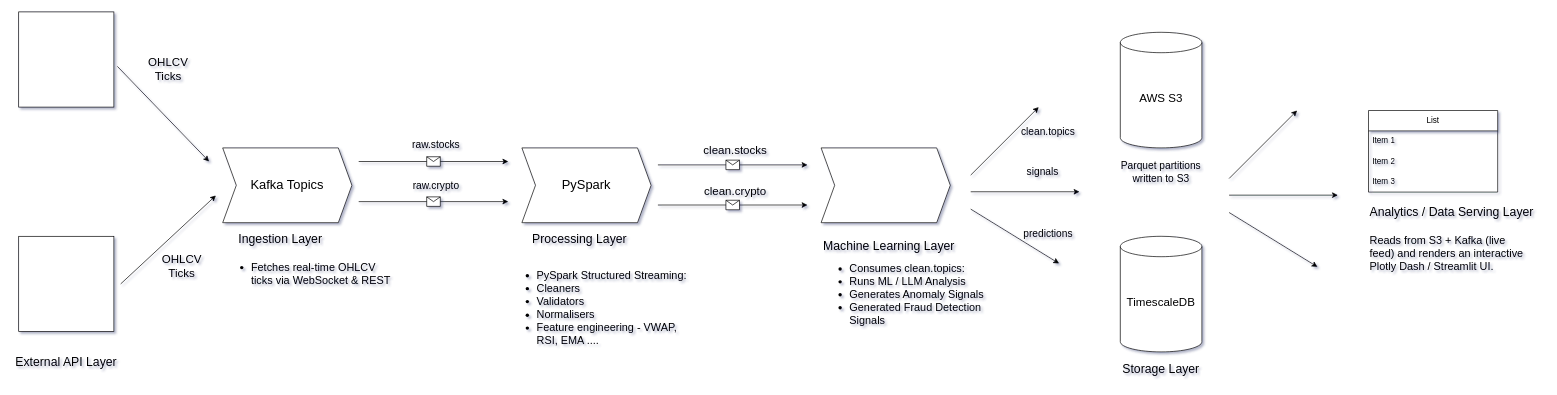
Image size: 1557x395. Some labels were removed from this diagram. Here are the shapes that lost their labels. From the top down, the centre of each, then its label:
[66,59]: Alpaca API
[885,185]: ML / LLM
[66,284]: Binance API
